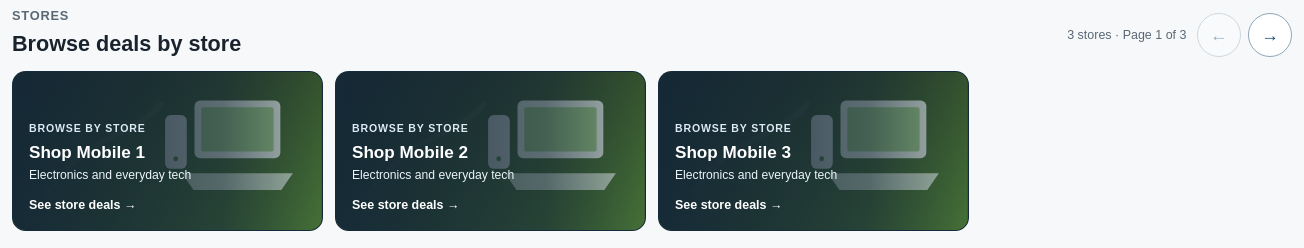
Test: StoreBannerRail › shows one discrete banner at a time on phones and supports buttons and swipe
Check: the message shows "Page 1 of 3", box [1067,26,1186,44]
Click the button named "Next store banners" at (1270, 35), box [1248,13,1292,57]
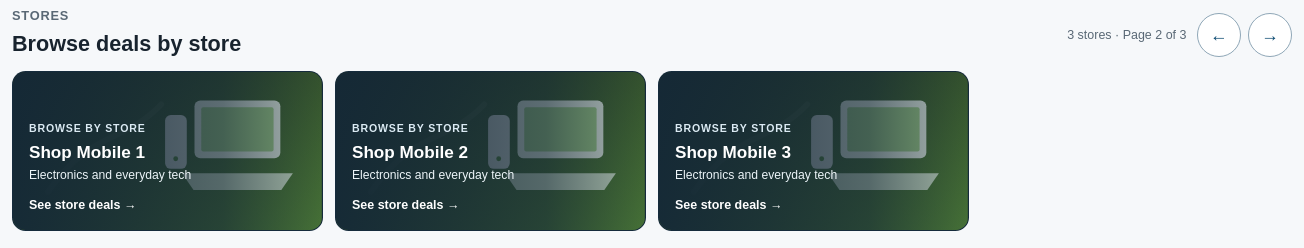
Check: the message shows "Page 2 of 3", box [1067,26,1186,44]
Press the mouse on the element with class "store-banner-rail" at (490, 152), box [12,72,969,232]
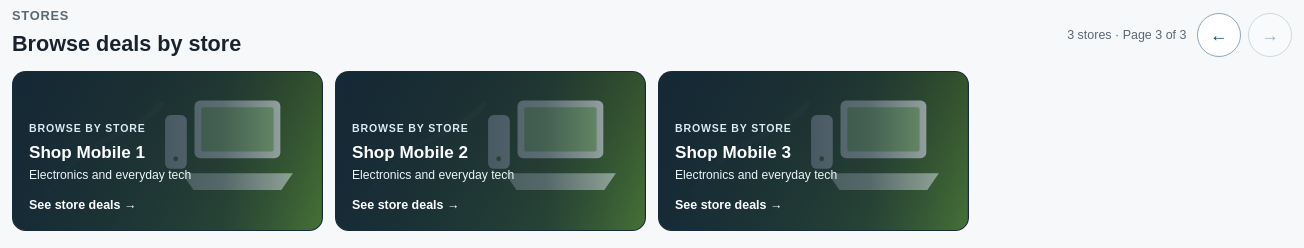
Check: the message shows "Page 3 of 3", box [1067,26,1186,44]
